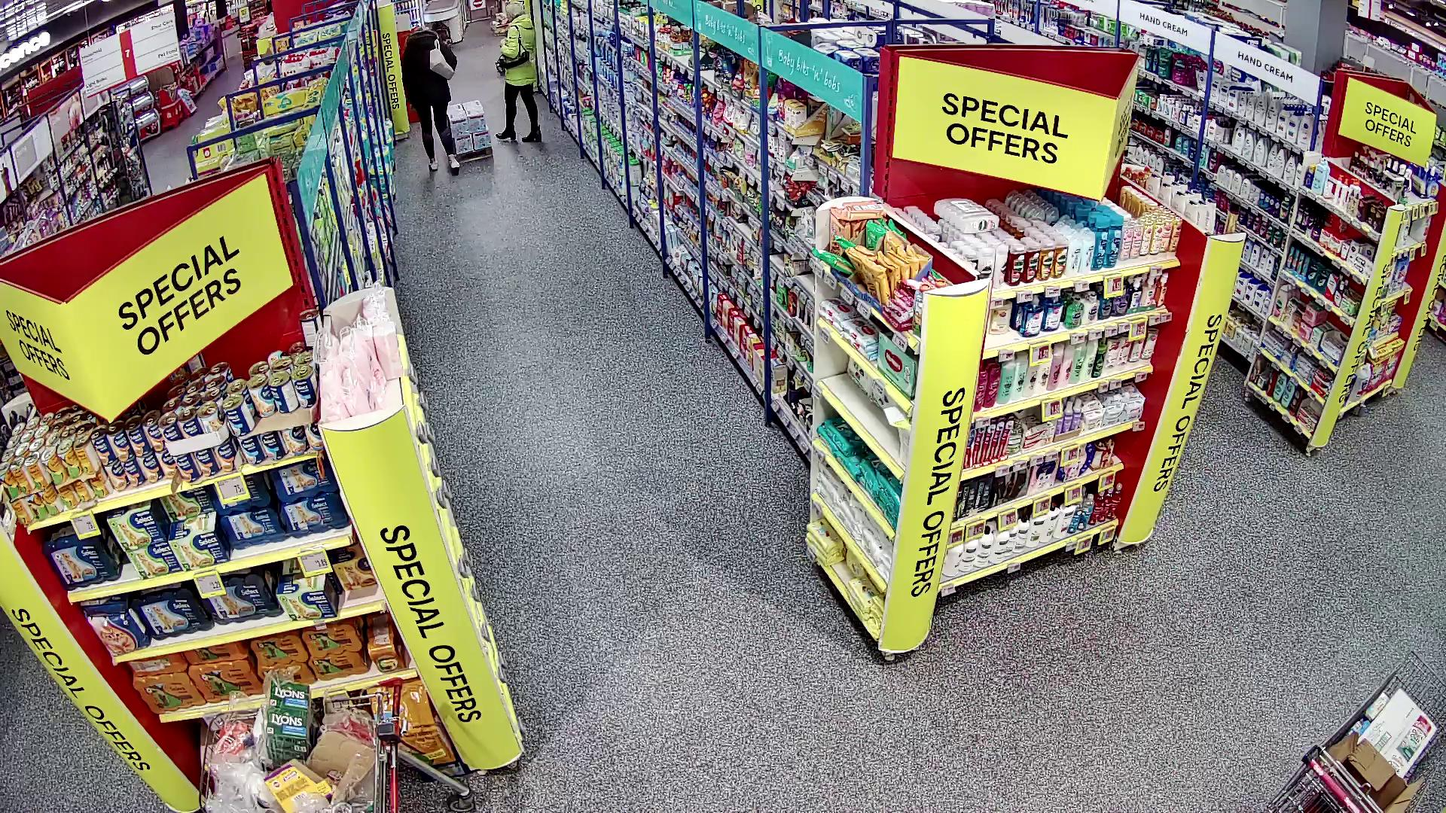backpack-or-handbag: (429, 44, 454, 81), (498, 43, 529, 69)
person: (402, 27, 460, 173), (496, 3, 542, 142)
person-with-backpack-handbag: (402, 26, 460, 175), (496, 2, 541, 142)
